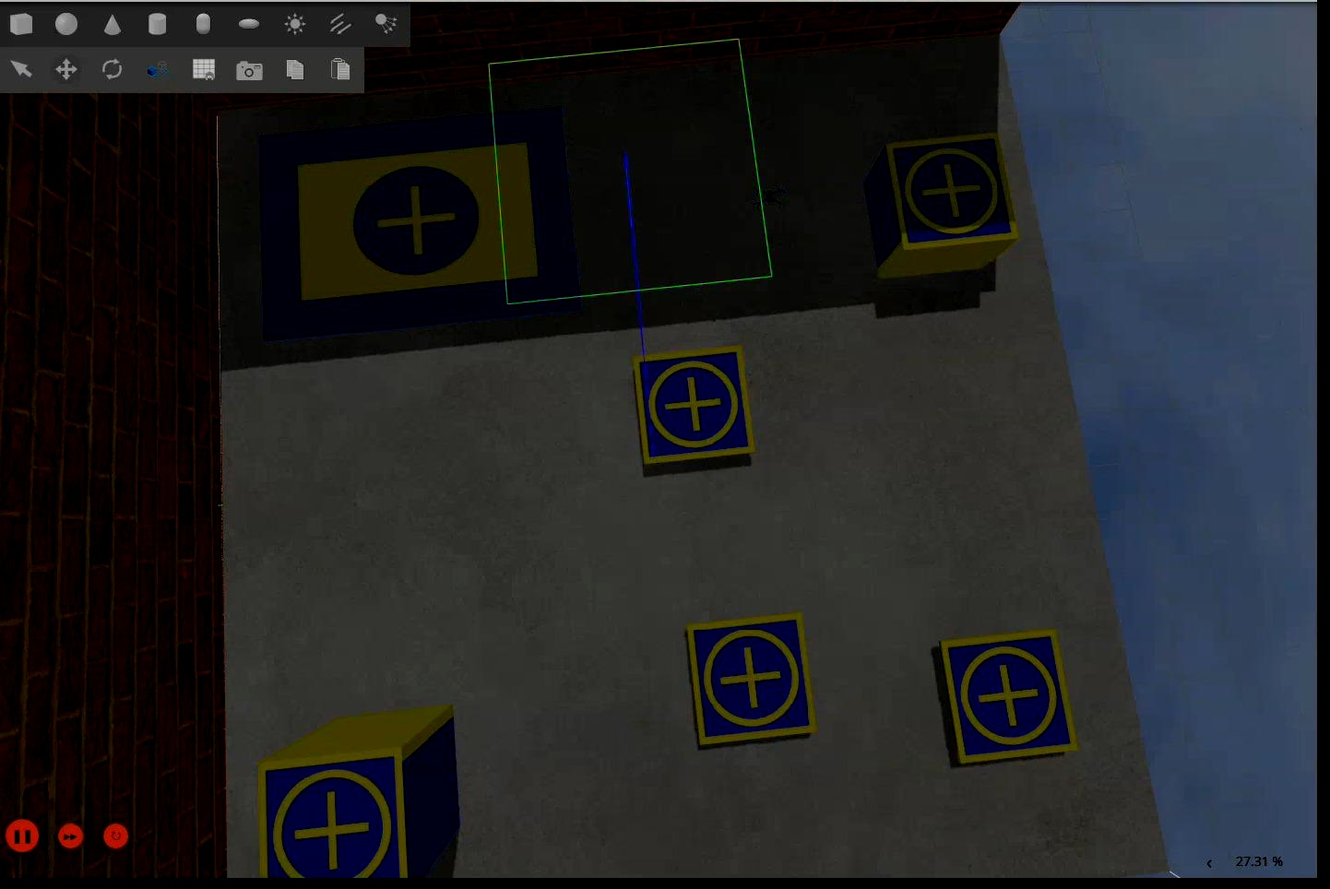large_base: (261, 104, 585, 345)
small_base: (256, 742, 415, 880), (938, 630, 1082, 772), (681, 611, 821, 750), (630, 345, 756, 472), (883, 136, 1018, 253)
